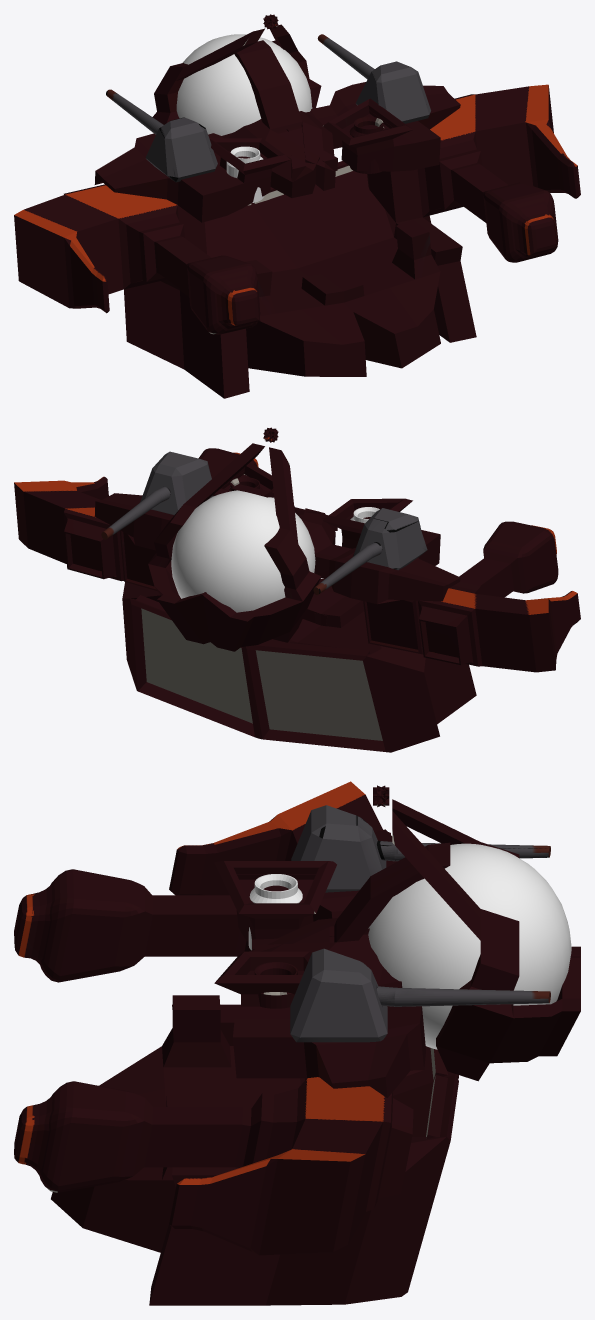
Rendered from BossModel2.fbx.
3 views of the same model, one above another, from view 1: azimuth 30°, elevation 25°; view 2: azimuth 150°, elevation 25°; view 3: azimuth 270°, elevation 25° (orthographic). The views are drawn at different scales.
Parts seen in each view (by area): view 1: BossModel, Cab, LeftGun, GunRight, RightRocketLauncher, LeftRocketLauncher; view 2: BossModel, Cab, LeftGun, GunRight; view 3: BossModel, Cab, GunRight, LeftGun, LeftRocketLauncher, RightRocketLauncher.
Part boxes in pixels (x1,y1,x2,y2): BossModel: [14, 24, 580, 398]; Cab: [176, 34, 312, 135]; LeftGun: [106, 89, 217, 182]; GunRight: [317, 34, 430, 123]; RightRocketLauncher: [349, 116, 384, 173]; LeftRocketLauncher: [226, 146, 264, 202]; BossModel: [14, 443, 580, 752]; Cab: [171, 490, 315, 612]; LeftGun: [313, 508, 427, 594]; GunRight: [101, 451, 213, 539]; BossModel: [14, 781, 580, 1305]; Cab: [368, 843, 571, 1049]; GunRight: [290, 948, 550, 1042]; LeftGun: [291, 805, 550, 892]; LeftRocketLauncher: [248, 874, 302, 950]; RightRocketLauncher: [254, 962, 297, 1008].
Bounding box in the file's own units: 21148 × 11394 × 13272.
3 materials, 2 textured.
